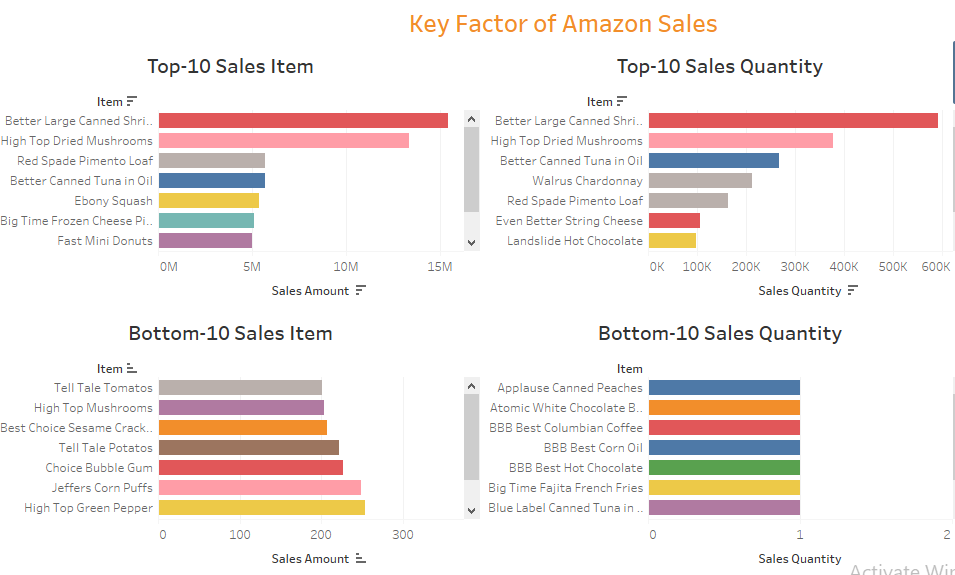

This screenshot's page, from the dashboard's own definition file:
{"tool":"tableau","page":{"name":"Dashboard 2","canvas":[1000,1000],"units":"permille","ordinal":1},"visuals":[{"type":"title","box":[6.9,13.5,986.1,69.2]},{"type":"worksheet","title":"top-10","mark":"Automatic","rows":["Item"],"cols":["Sales Amount"],"box":[6.9,82.8,423.8,451.9]},{"type":"worksheet","title":"top-selling-qty","mark":"Automatic","rows":["Item"],"cols":["Sales Quantity"],"box":[430.7,82.8,423.8,451.9]},{"type":"legend","title":"top-10","param":"[federated.1rpimwr1iy7fyi12jhe1y1yk26cm].[none:Item:nk]","box":[854.5,82.8,138.5,381.8]},{"type":"worksheet","title":"bottom-10","mark":"Automatic","rows":["Item"],"cols":["Sales Amount"],"box":[6.9,534.6,423.8,451.9]},{"type":"worksheet","title":"bottom-selling-qty","mark":"Automatic","rows":["Item"],"cols":["Sales Quantity"],"box":[430.7,534.6,423.8,451.9]}]}

Visuals, with their boxes on the dashboard's canvas, which has no fixed pixel size, in thousandths of its width and height (x1, y1, x2, y2). These are canvas units, not pixel positions in the 955x575 screenshot, which may show the page scaled, cropped or inside an application window:
title: [7,14,993,83]
"top-10" worksheet: [7,83,431,535]
"top-selling-qty" worksheet: [431,83,854,535]
"top-10" legend: [854,83,993,465]
"bottom-10" worksheet: [7,535,431,986]
"bottom-selling-qty" worksheet: [431,535,854,986]
